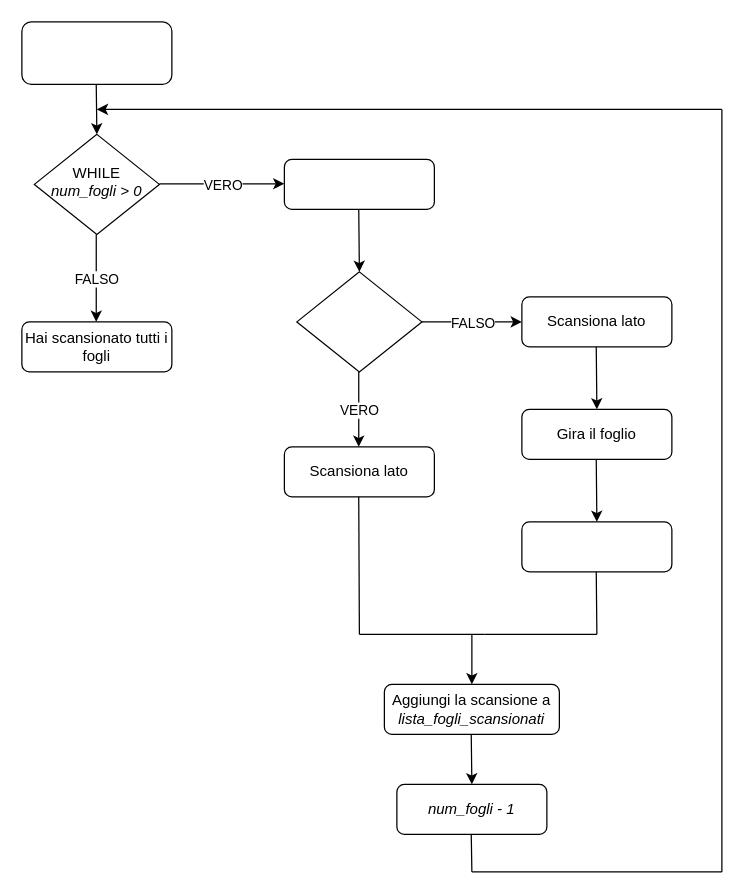
Image size: 754x895. Some labels were removed from this diagram. The shapes that lost their labels are listed below. From the top down, each one's box as (x1, y1, x2, y2) in pixels, then its label:
(21, 21, 172, 84): Hai contato il num_fogli da scansionare
(283, 158, 434, 209): Conta n_lati da scansionare
(296, 271, 422, 372): SE n_lati == 1
(521, 521, 672, 572): Scansiona l' altro lato
